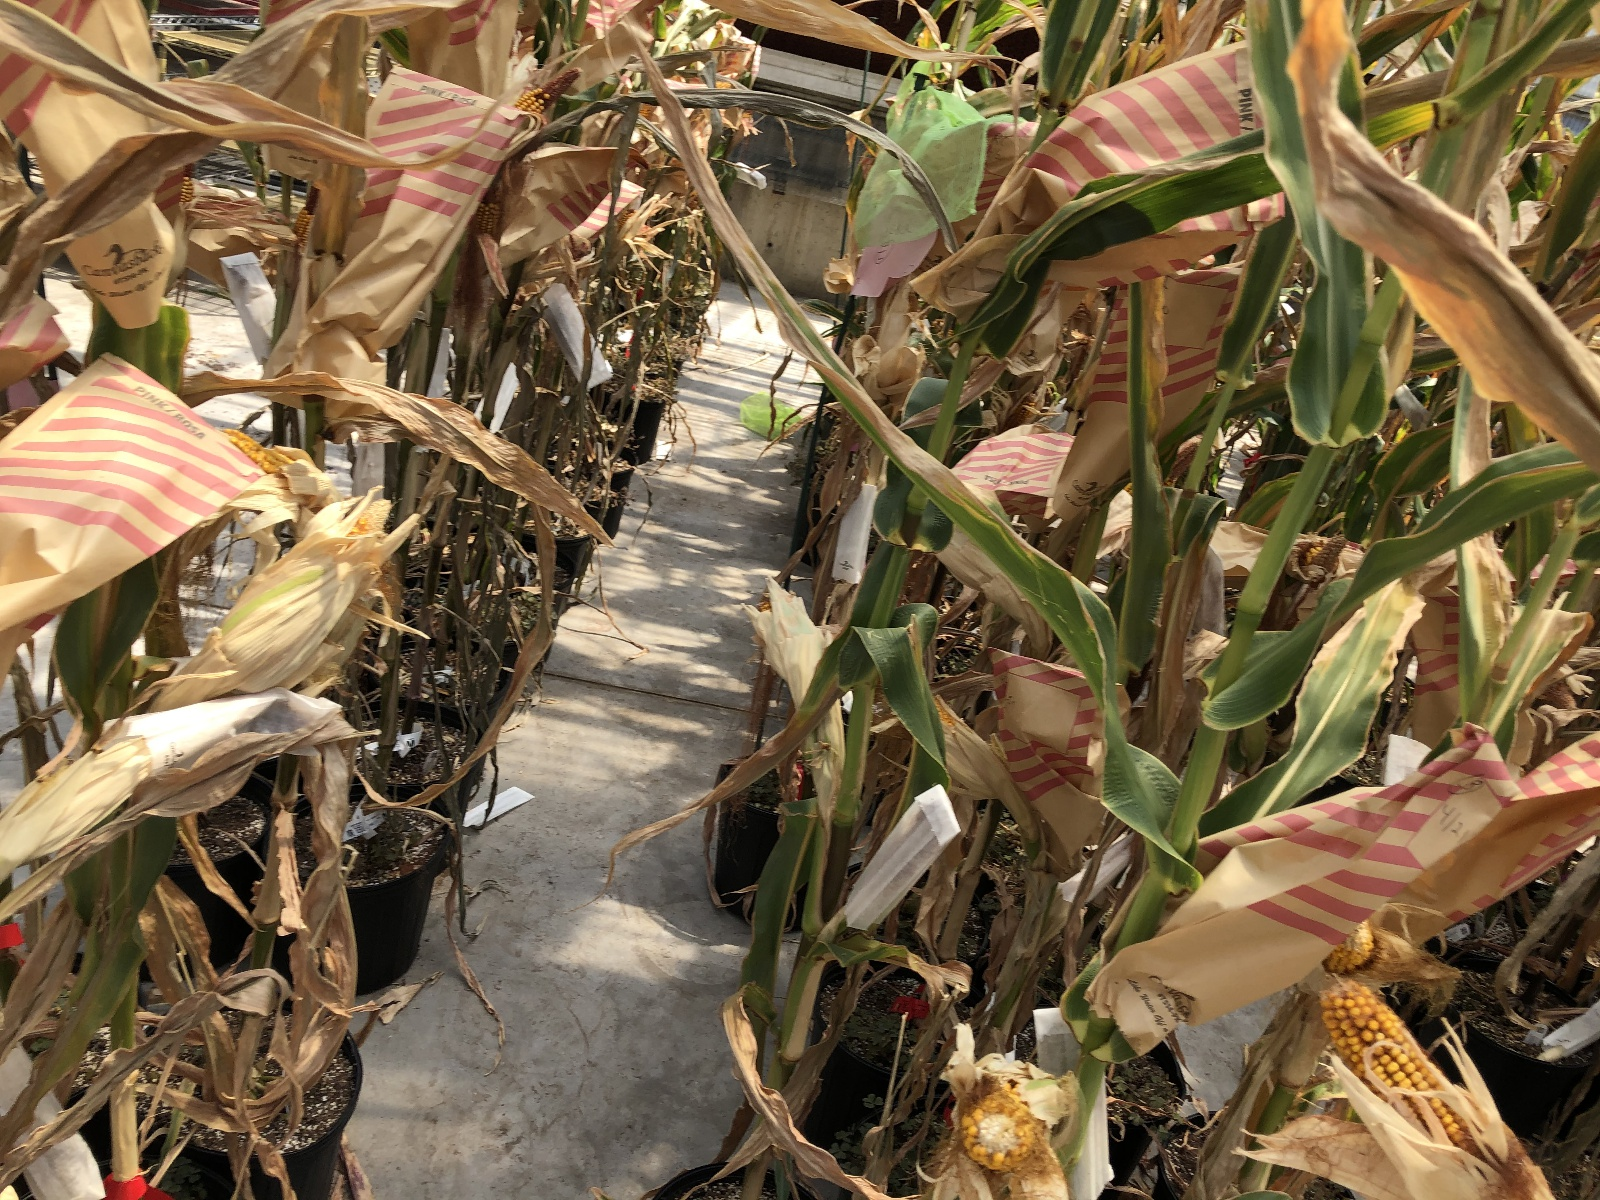ear: (1319, 983, 1495, 1184), (210, 494, 398, 682), (745, 571, 852, 750), (910, 673, 1015, 795), (950, 1073, 1051, 1176), (215, 418, 296, 483), (514, 61, 583, 120), (1319, 915, 1383, 977), (1301, 529, 1347, 584), (294, 178, 317, 245), (472, 176, 496, 241), (180, 165, 204, 204)
